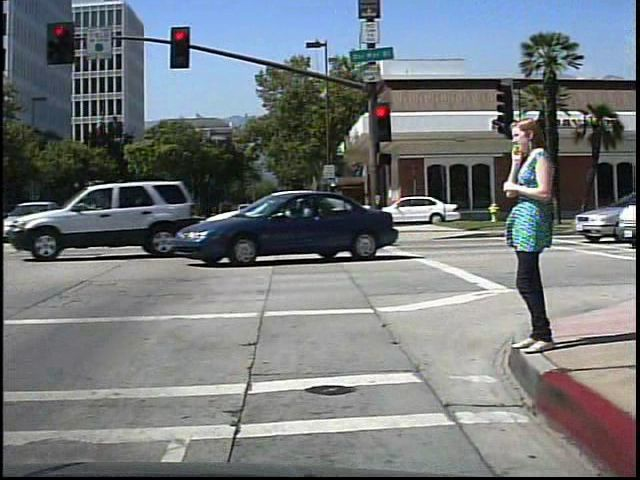person: (498, 109, 560, 363)
